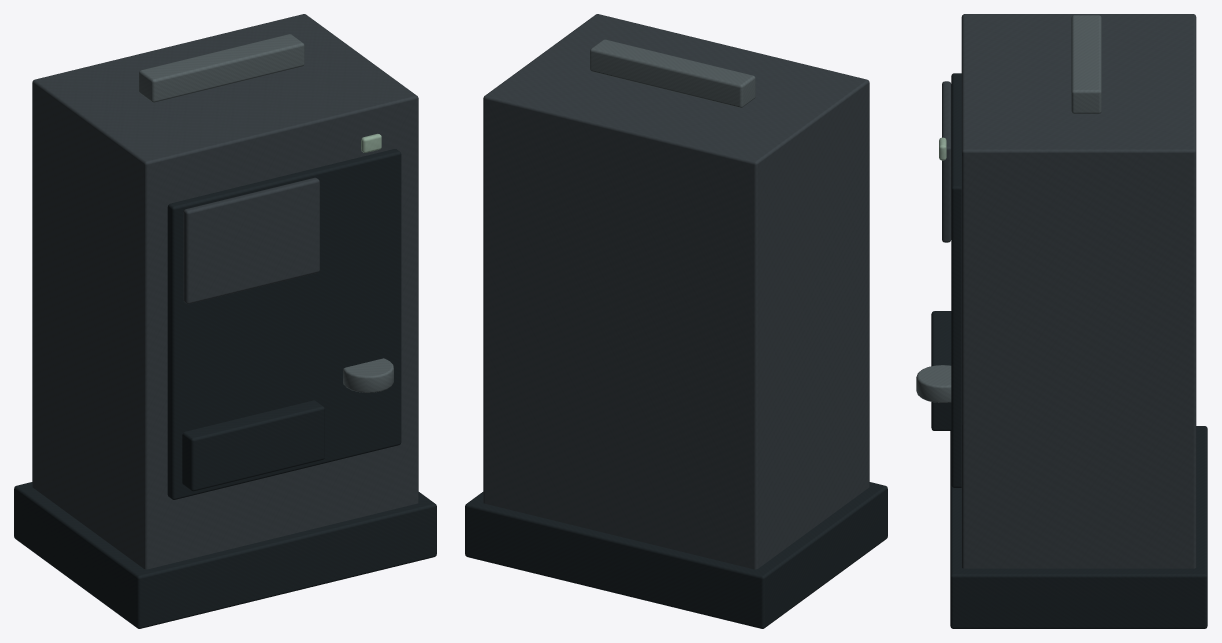
Rendered from AirSamplingAnalyzer.fbx.
3 renders of one model, left to right at view 1: azimuth 30°, elevation 25°; view 2: azimuth 150°, elevation 25°; view 3: azimuth 270°, elevation 25°, orthographic. The views are drawn at different scales.
Parts seen in each view (by area): view 1: AirSamplingAnalyzer_Mesh; view 2: AirSamplingAnalyzer_Mesh; view 3: AirSamplingAnalyzer_Mesh.
Boxes of the visible parts, <box> form: AirSamplingAnalyzer_Mesh: <box>14,14,436,628</box>; AirSamplingAnalyzer_Mesh: <box>465,14,887,628</box>; AirSamplingAnalyzer_Mesh: <box>916,14,1207,628</box>.
Bounding box in the file's own units: 94 × 146 × 77.
Materials: 4 (4 with a texture image).
